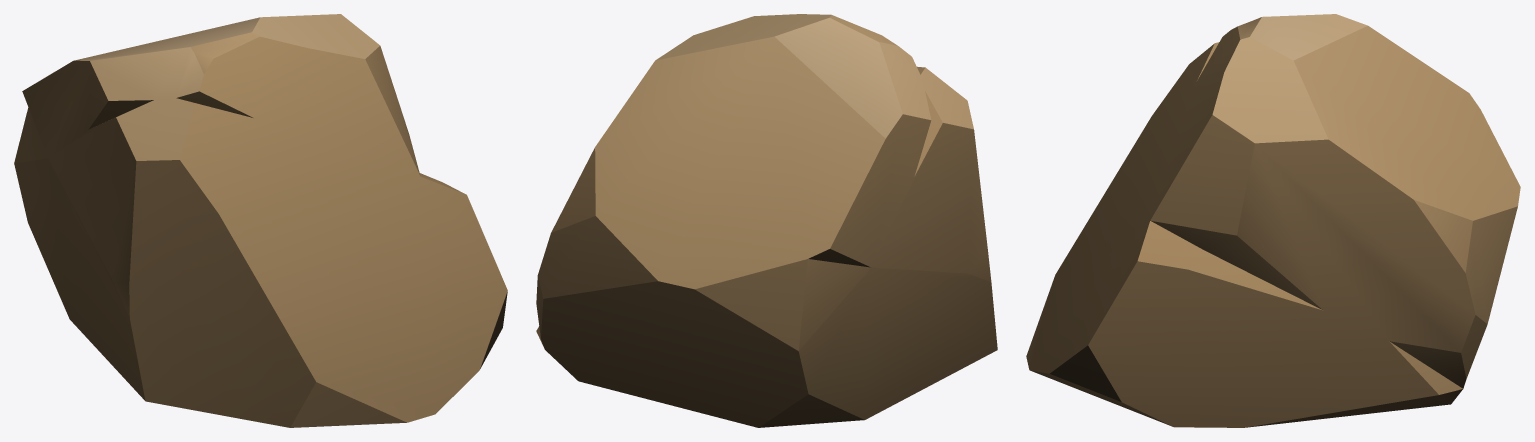
Rendered from Rock_Large_2B.fbx.
The picture shows the model from 3 angles, left to right: view 1: azimuth 30°, elevation 25°; view 2: azimuth 150°, elevation 25°; view 3: azimuth 270°, elevation 25°; orthographic projection. The views are drawn at different scales.
Parts seen in each view (by area): view 1: Rock_Large_2B; view 2: Rock_Large_2B; view 3: Rock_Large_2B.
Boxes of the visible parts, x1,y1,x2,y2 form: Rock_Large_2B: (14,14,507,427); Rock_Large_2B: (536,14,997,427); Rock_Large_2B: (1026,14,1520,427).
Bounding box in the file's own units: 391 × 354 × 526.
